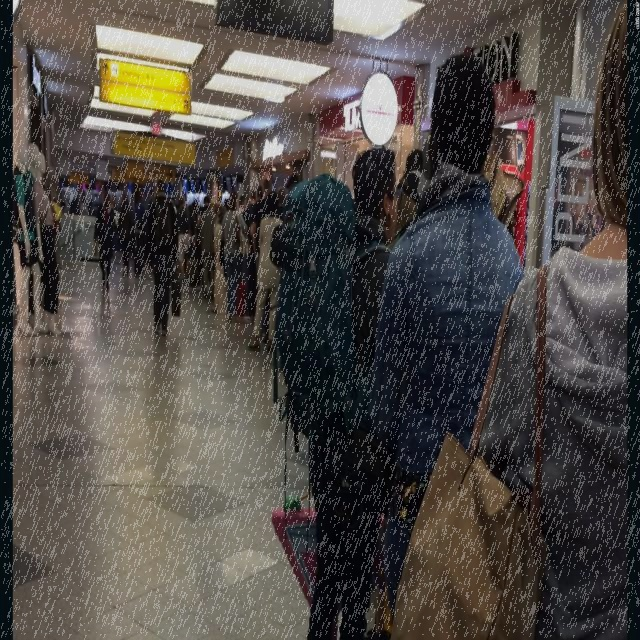pessoa: (386, 0, 632, 639), (370, 51, 526, 626), (272, 142, 404, 640), (12, 139, 65, 337), (246, 192, 286, 357), (144, 176, 183, 337), (217, 188, 252, 330), (92, 188, 118, 294), (230, 191, 248, 319), (250, 176, 272, 273), (199, 196, 218, 299), (396, 147, 424, 205), (117, 188, 134, 278), (175, 194, 192, 282), (187, 190, 202, 282), (132, 188, 146, 278), (144, 186, 156, 270), (277, 175, 300, 216), (247, 187, 257, 215), (110, 188, 120, 208), (254, 186, 262, 201), (203, 195, 211, 209)
